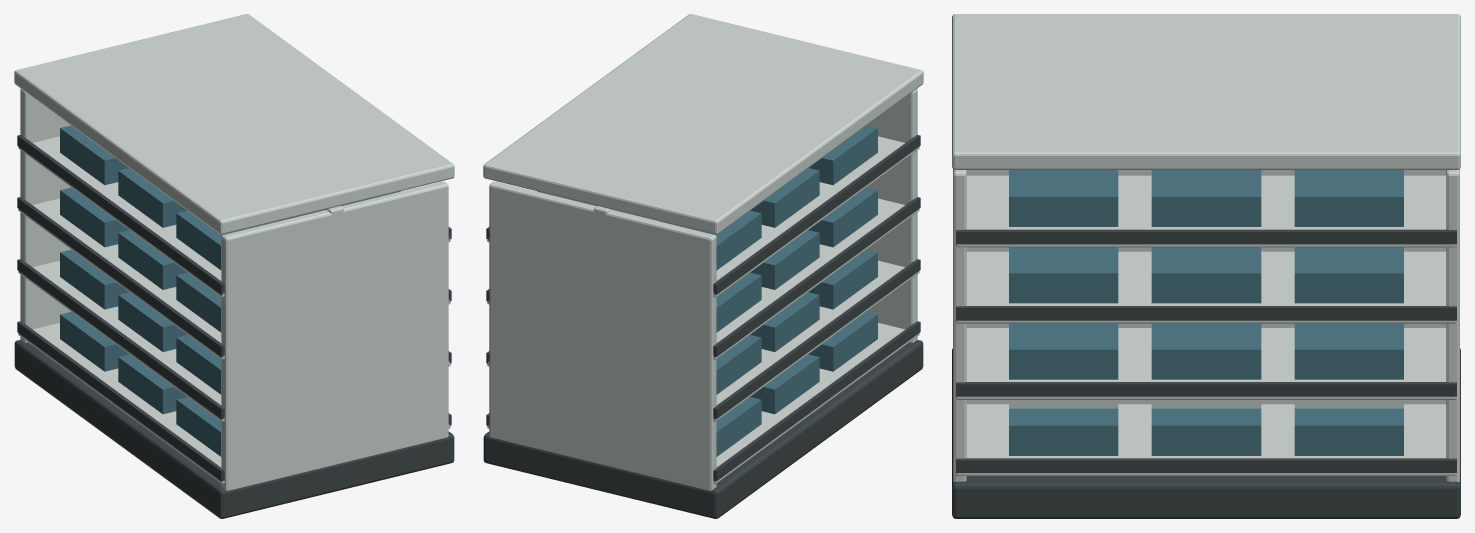
File: beverages-l0.glb
3 renders of one model, left to right at view 1: azimuth 30°, elevation 25°; view 2: azimuth 150°, elevation 25°; view 3: azimuth 270°, elevation 25°, orthographic. The views are drawn at different scales.
Visible parts, largest first — view 1: beverages-l0_fixture_Refrigerator enamel, beverages-l0_fixture_Powder-coated graphite, beverages-l0_fixture_Pack blue.001; view 2: beverages-l0_fixture_Refrigerator enamel, beverages-l0_fixture_Powder-coated graphite, beverages-l0_fixture_Pack blue.001; view 3: beverages-l0_fixture_Refrigerator enamel, beverages-l0_fixture_Pack blue.001, beverages-l0_fixture_Powder-coated graphite, beverages-l0_fixture_Refrigerator enamel.001.
Boxes of the visible parts, <box> form: beverages-l0_fixture_Refrigerator enamel: <box>14,14,454,490</box>; beverages-l0_fixture_Powder-coated graphite: <box>14,135,454,518</box>; beverages-l0_fixture_Pack blue.001: <box>60,125,397,456</box>; beverages-l0_fixture_Refrigerator enamel: <box>483,14,923,490</box>; beverages-l0_fixture_Powder-coated graphite: <box>483,135,923,518</box>; beverages-l0_fixture_Pack blue.001: <box>540,125,877,456</box>; beverages-l0_fixture_Refrigerator enamel: <box>952,14,1460,481</box>; beverages-l0_fixture_Pack blue.001: <box>1009,170,1403,455</box>; beverages-l0_fixture_Powder-coated graphite: <box>952,229,1460,518</box>; beverages-l0_fixture_Refrigerator enamel.001: <box>1009,400,1403,408</box>.
Size of the model in its own units: 1.7 by 2.07 by 2.6.
